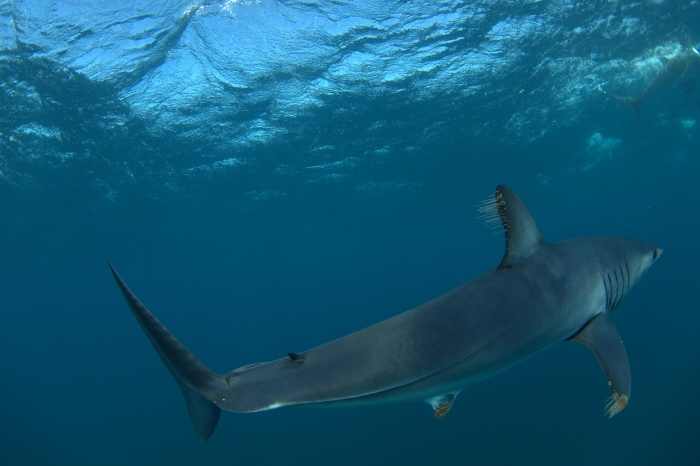Mako: (97, 180, 678, 449)
